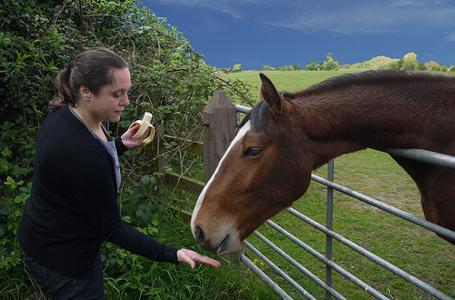person: (19, 45, 223, 299)
